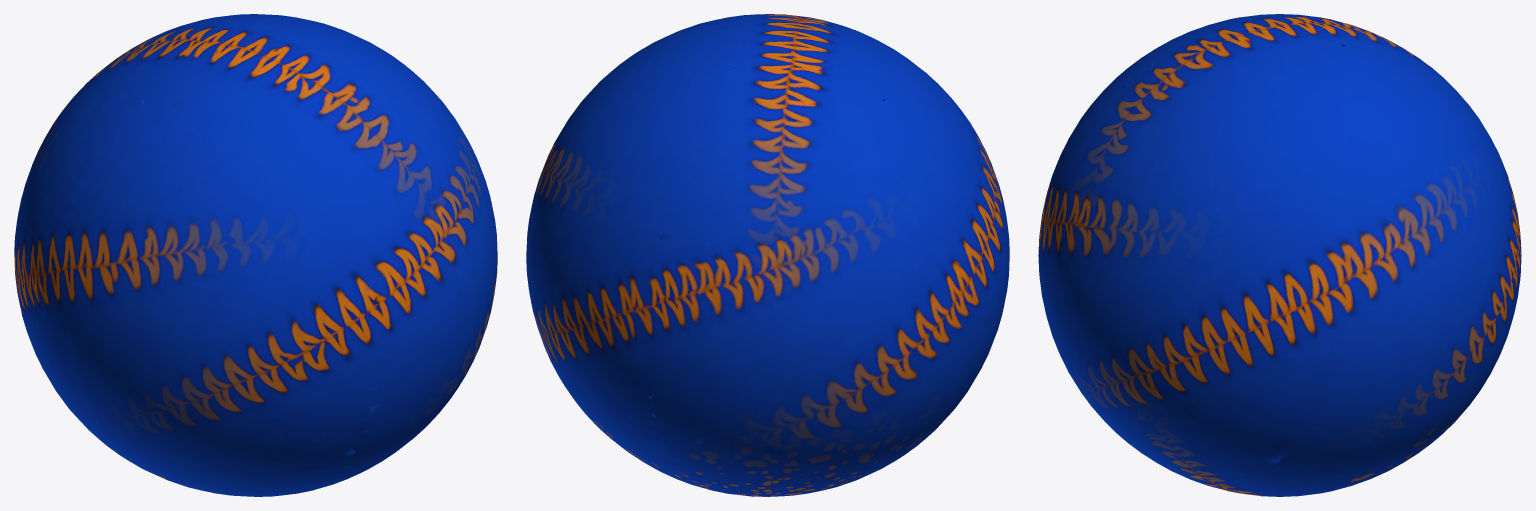
The model's file is blue+ball+3d+model.fbx.
The picture shows the model from 3 angles, left to right: view 1: azimuth 30°, elevation 25°; view 2: azimuth 150°, elevation 25°; view 3: azimuth 270°, elevation 25°; orthographic projection.
Visible parts, largest first — view 1: tripo_node_3c01c0e3; view 2: tripo_node_3c01c0e3; view 3: tripo_node_3c01c0e3.
Part boxes in pixels (bbox=[...]): tripo_node_3c01c0e3: bbox=[14, 14, 497, 496]; tripo_node_3c01c0e3: bbox=[526, 14, 1009, 496]; tripo_node_3c01c0e3: bbox=[1038, 14, 1521, 496].
Size of the model in its own units: 0.9999 by 0.9998 by 0.9999.
1 material, 1 textured.
